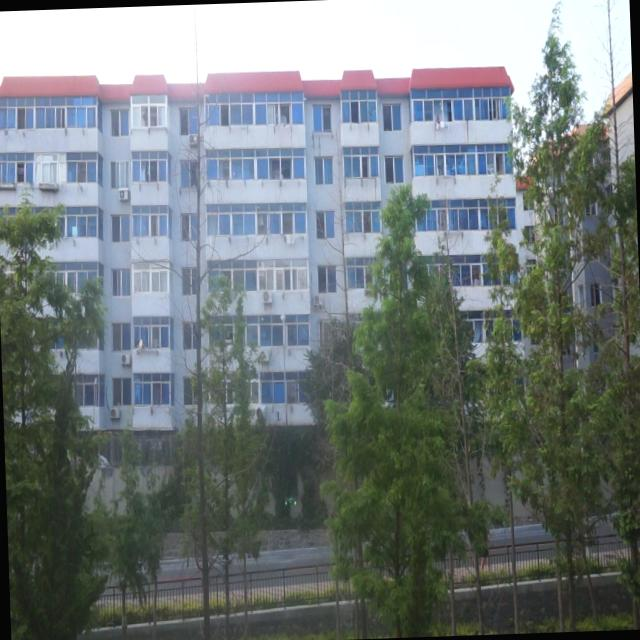drone: (281, 492, 302, 512)
